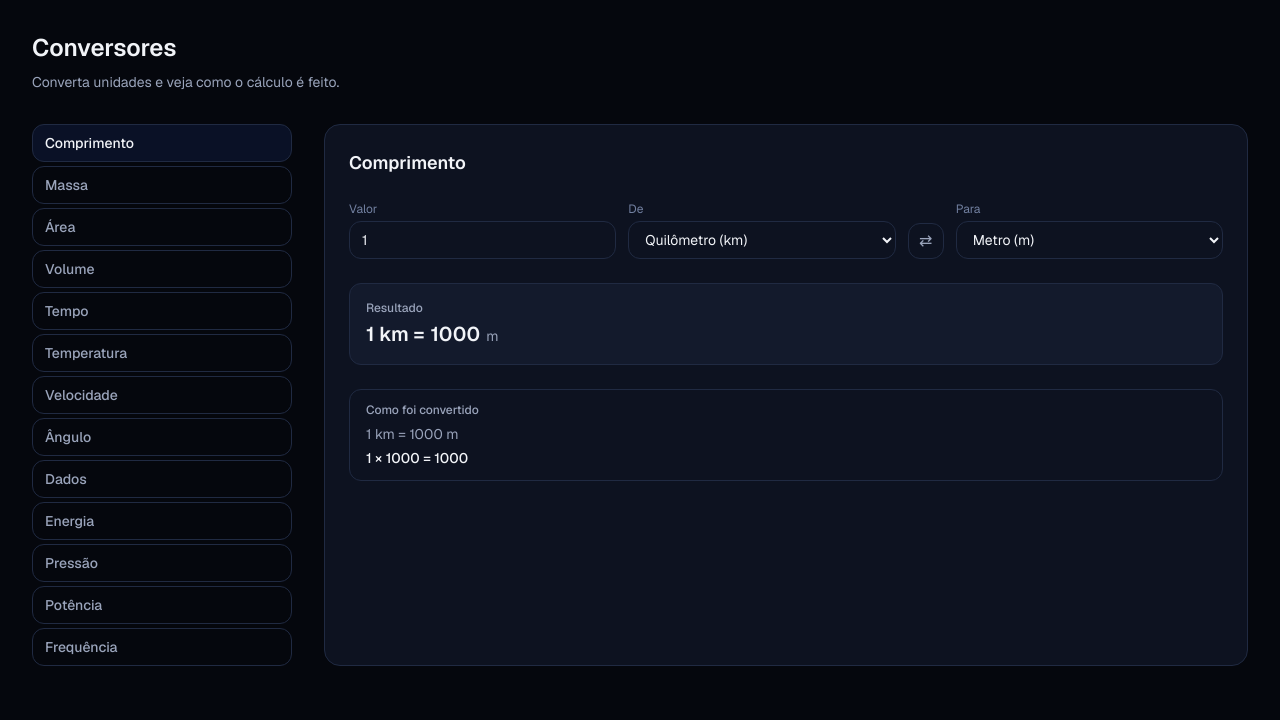
Test case: ConvertersWorkspace › Dados mostra a nota de convenção decimal (KB/MB/GB, nunca KiB/MiB/GiB)
Click the tab "Dados" at (66, 479), box 32,460 -> 292,498
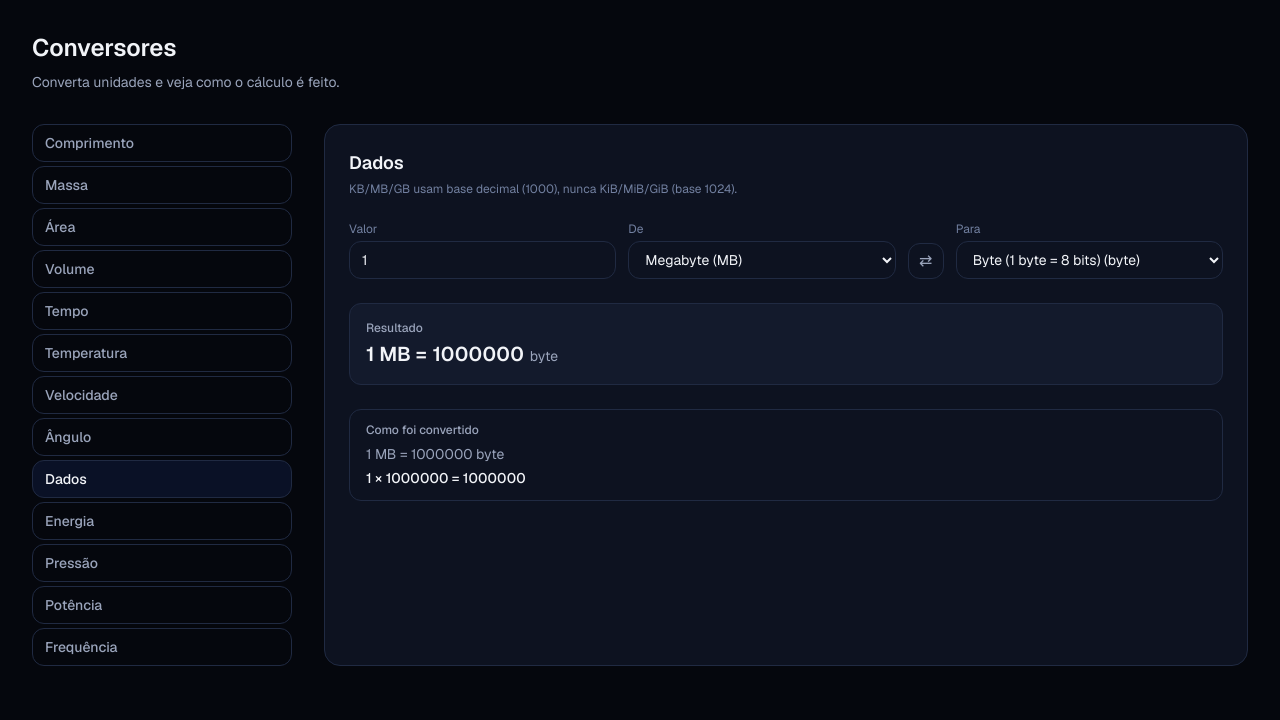
Expected: the heading "Dados" is shown, 349,151 -> 404,174
Expected: the text "KB/MB/GB usam base decimal (1000), nunca KiB/MiB/GiB (base 1024)." is shown, 349,181 -> 737,197
